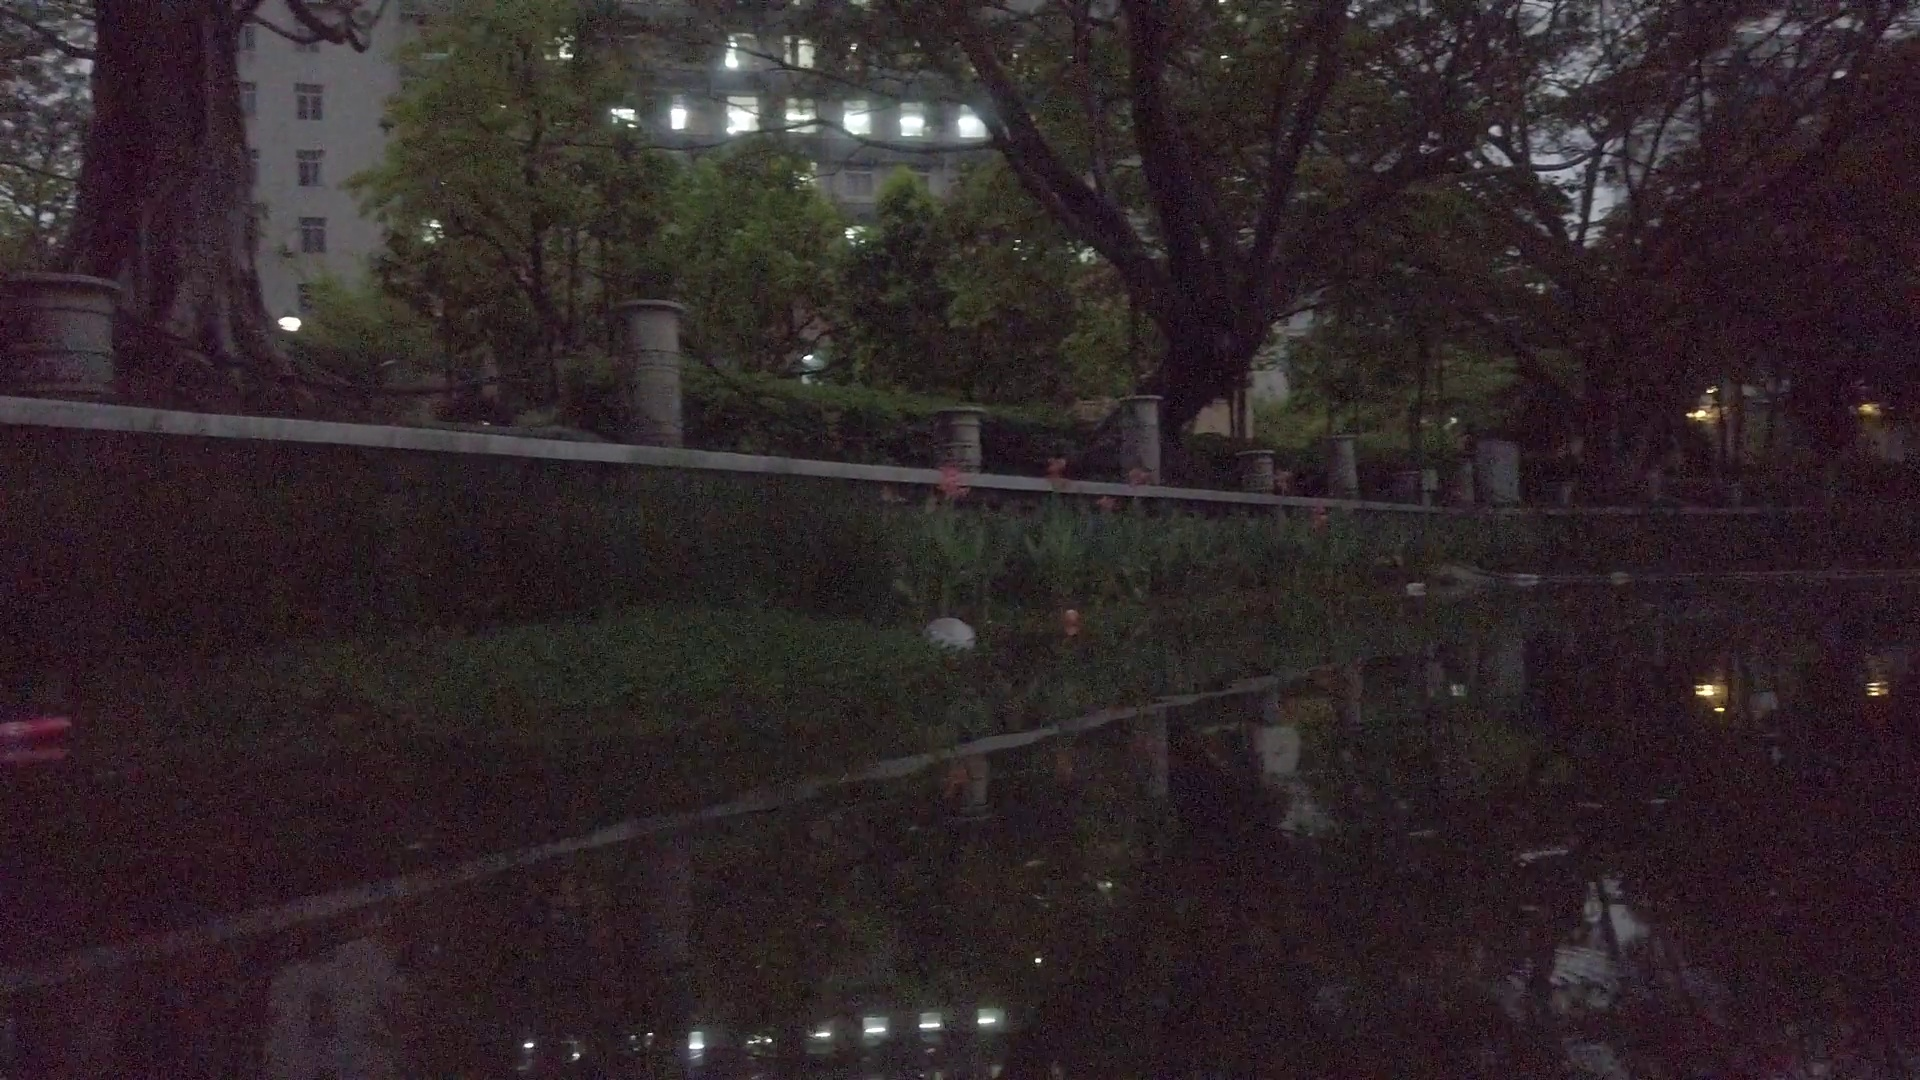bottle: (8, 715, 73, 749), (1054, 605, 1088, 630), (1403, 576, 1431, 597), (1610, 567, 1629, 585), (1515, 568, 1536, 584)
plastic: (926, 613, 976, 645)
